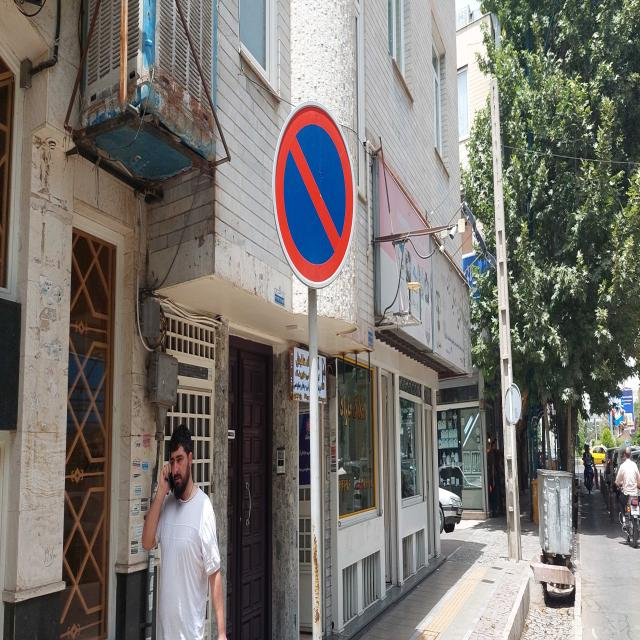forb_stopping: (271, 99, 355, 285)
